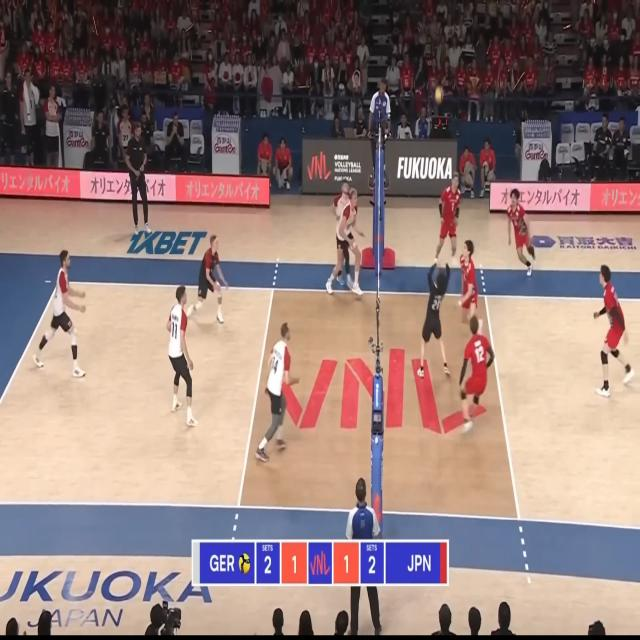ball: (435, 86, 444, 104)
